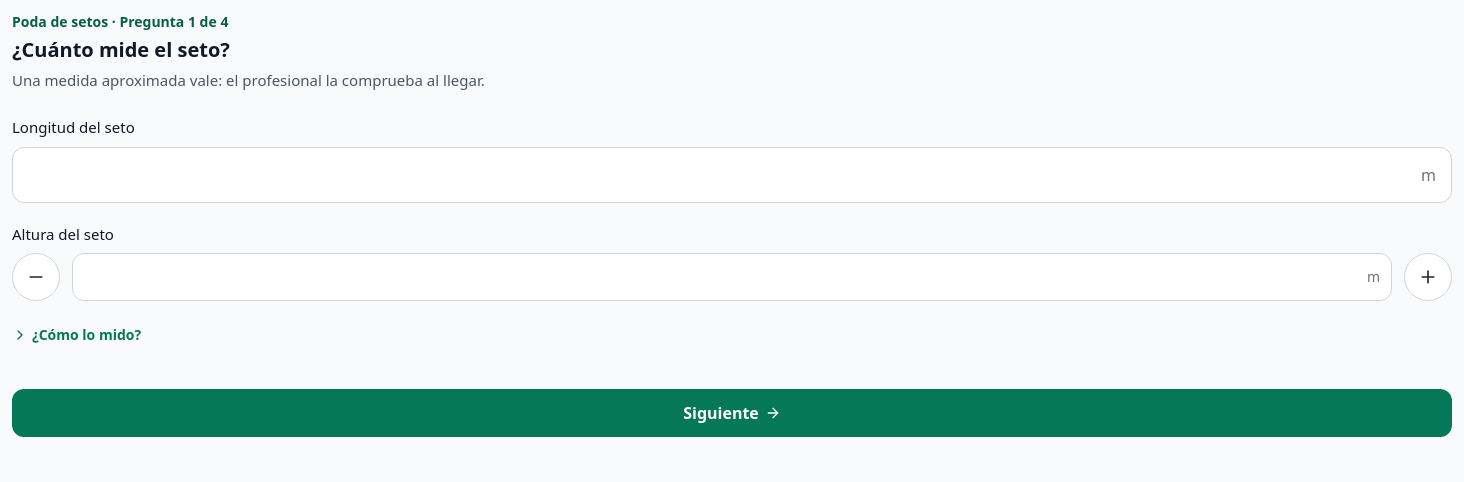
stepper con rejilla (P-03) › en el asistente, cuatro toques de «+» llevan a 2,0 m
The width and height of the screenshot is (1464, 482).
Type "14" into the field labelled "Longitud del seto".
click(732, 174); type("14")  # box x1=12 y1=146 x2=1452 y2=202
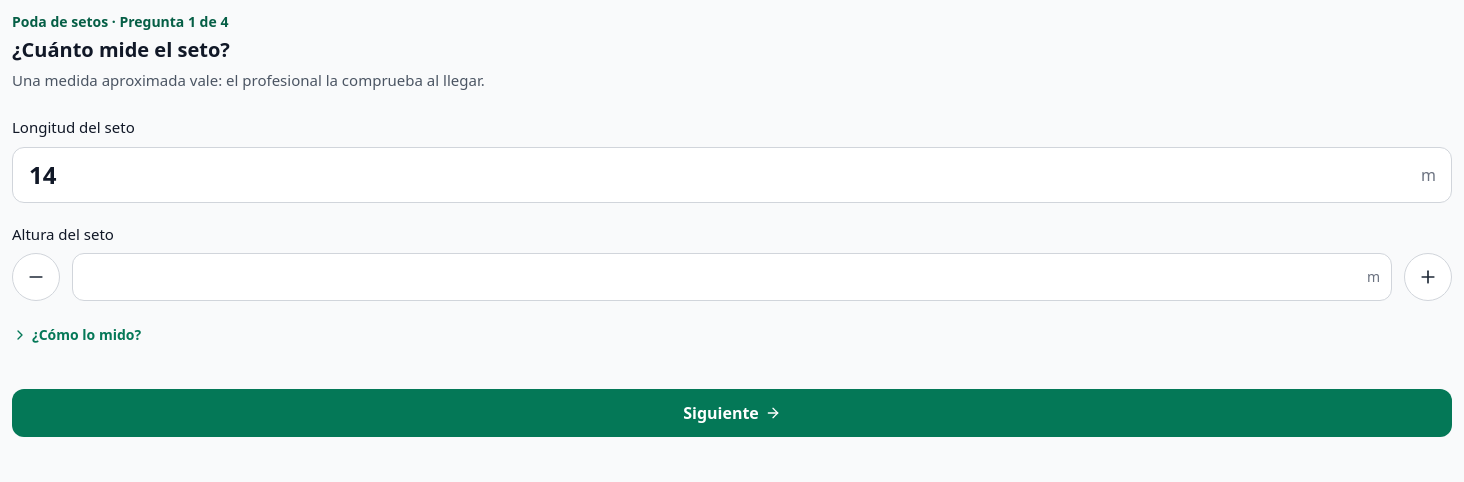
Click the button "Siguiente".
click(732, 413)  # box x1=12 y1=389 x2=1452 y2=437
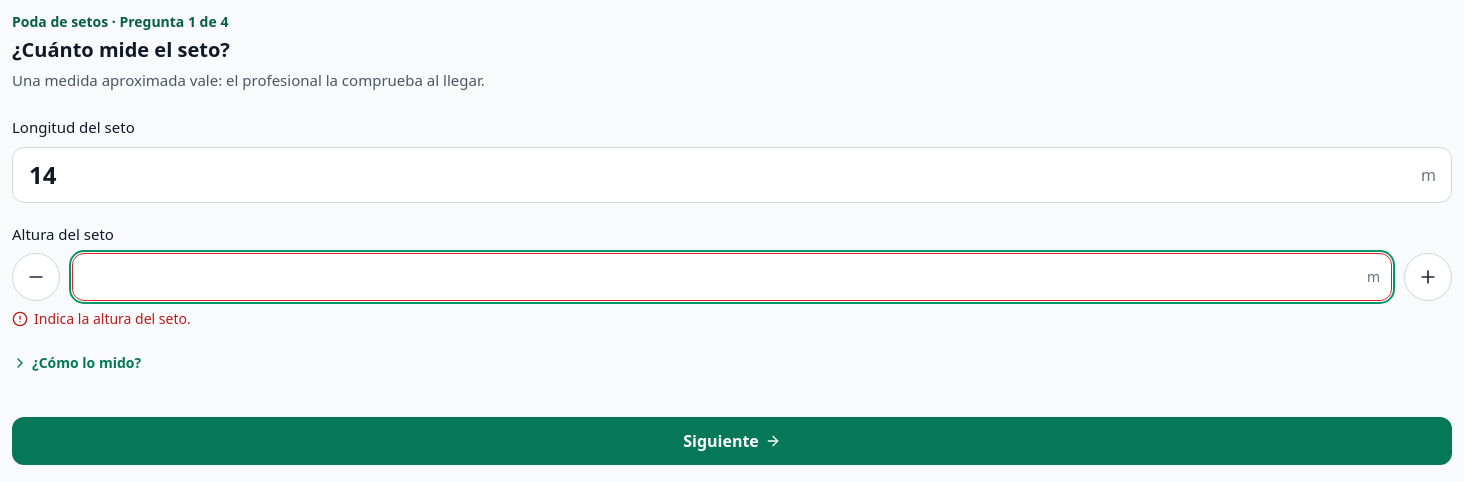
Click the button named "Aumentar altura del seto".
click(1428, 277)  # box x1=1404 y1=253 x2=1452 y2=301
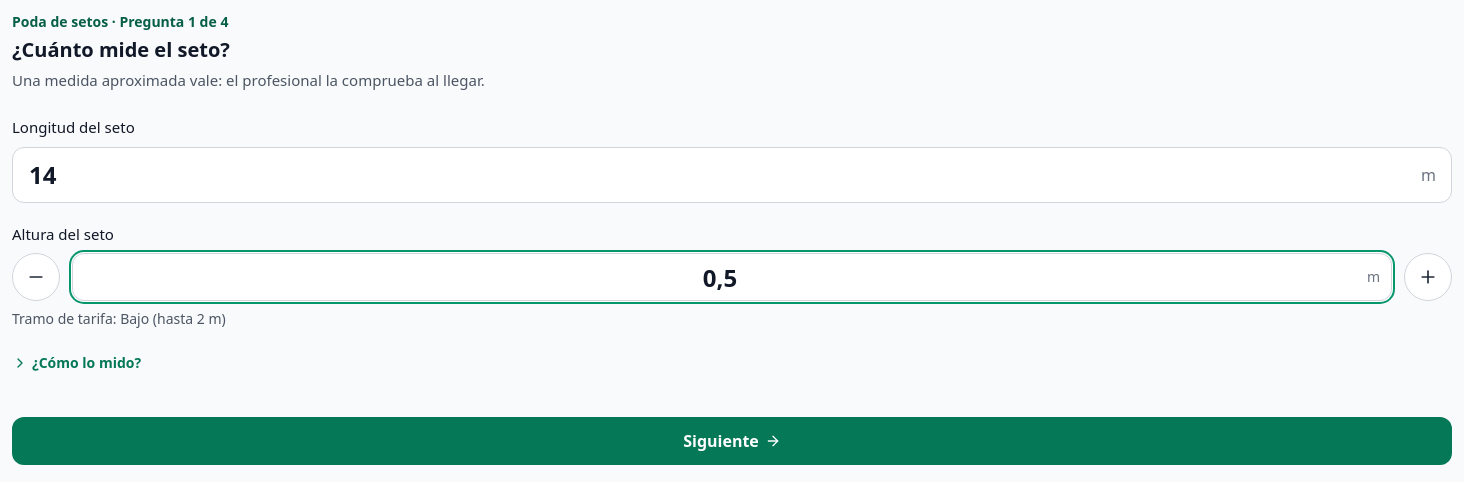
Click the button named "Aumentar altura del seto".
click(1428, 277)  # box x1=1404 y1=253 x2=1452 y2=301
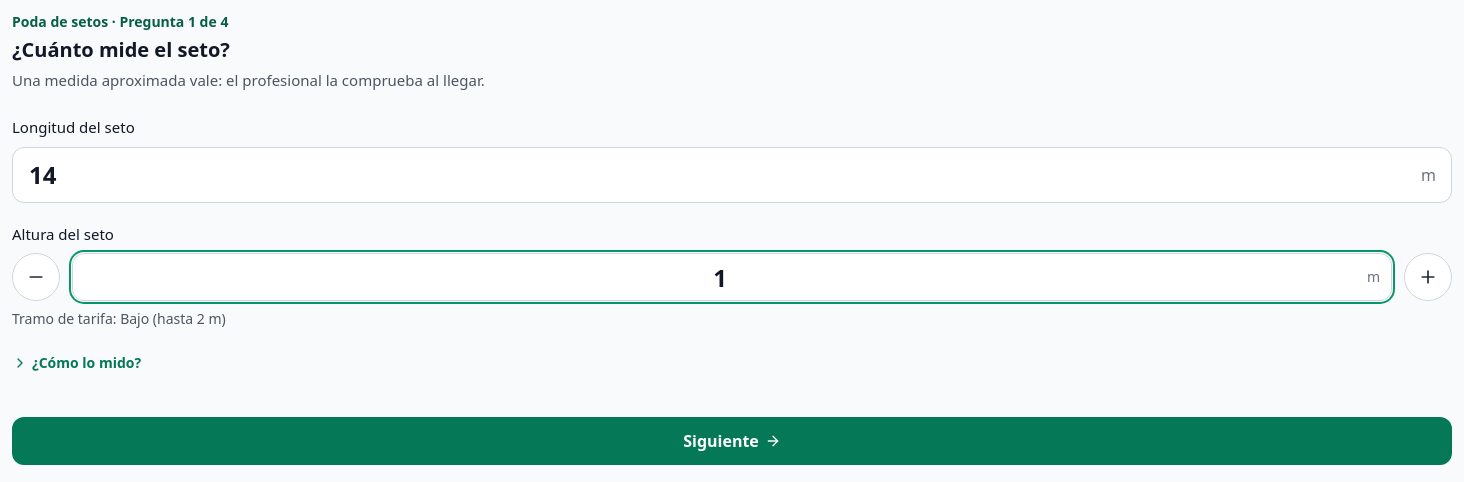
Click the button named "Aumentar altura del seto".
click(1428, 277)  # box x1=1404 y1=253 x2=1452 y2=301
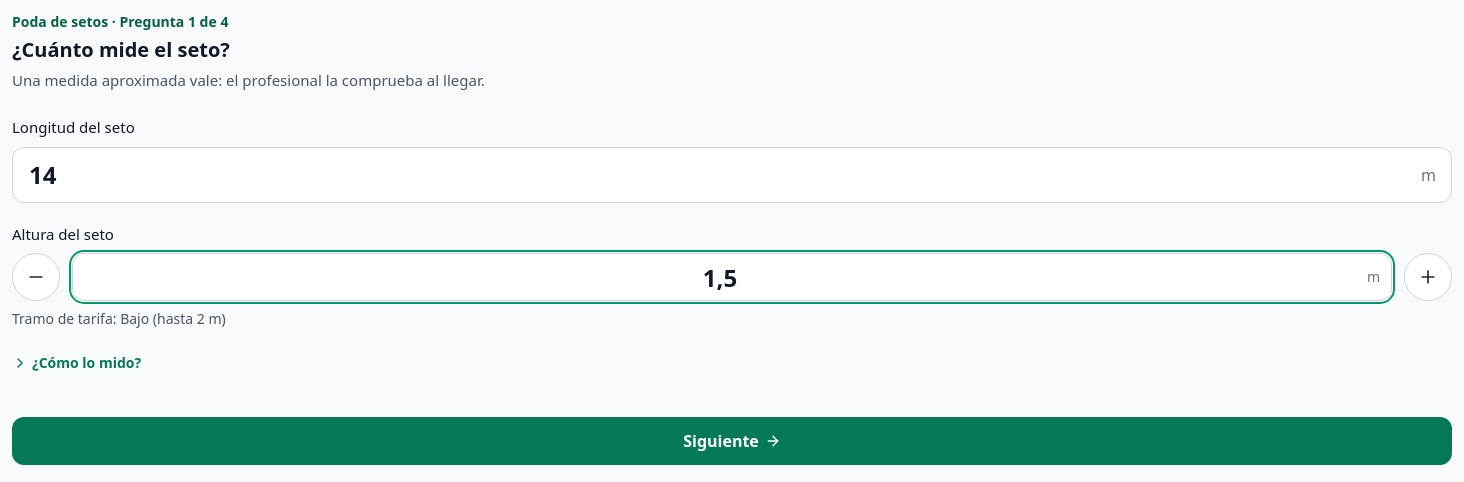
Click the button named "Aumentar altura del seto".
click(1428, 277)  # box x1=1404 y1=253 x2=1452 y2=301
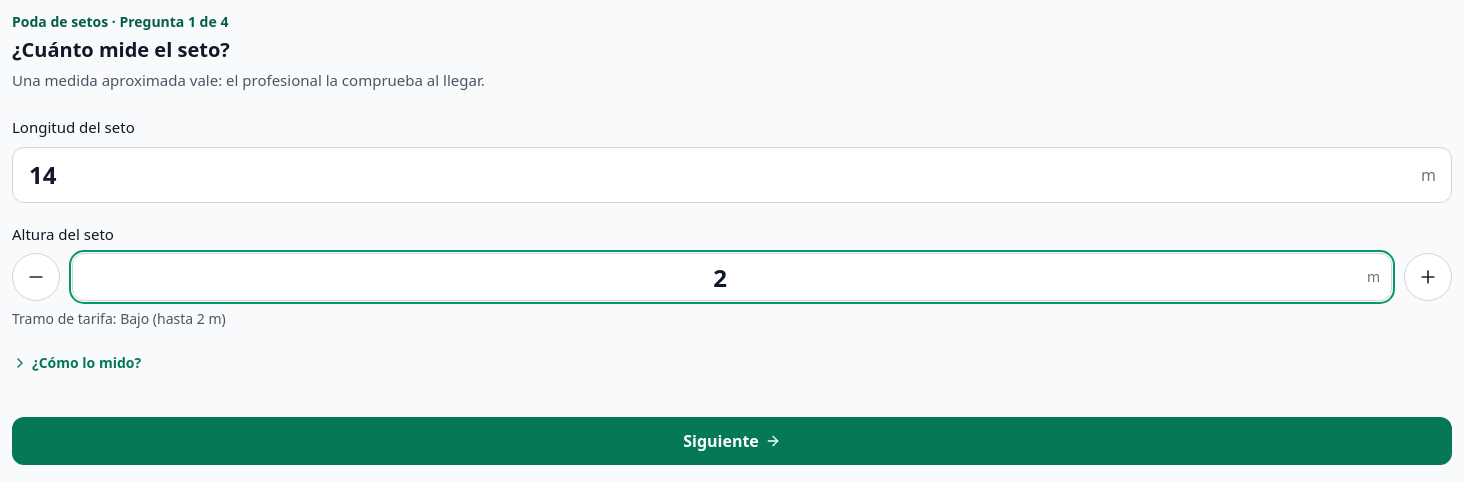
Expected: the field labelled "Altura del seto" holds "2", x1=72 y1=253 x2=1392 y2=301
